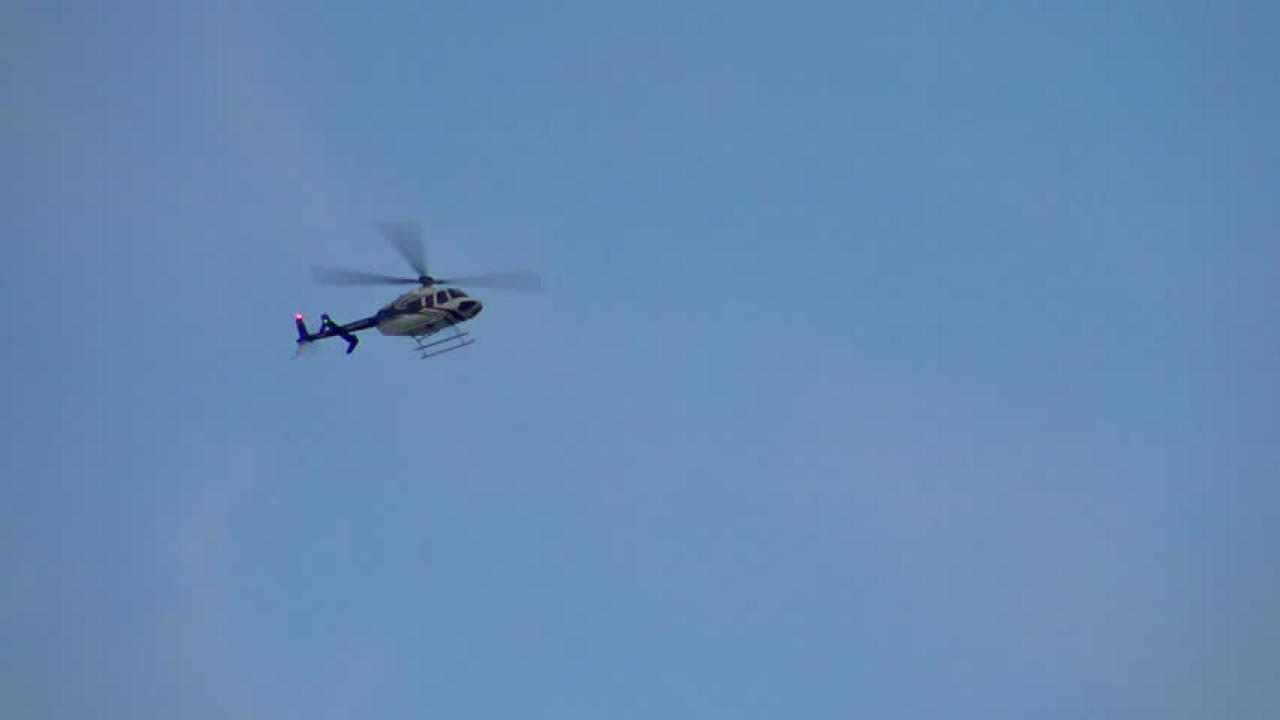Helicopter: (258, 199, 566, 399)
